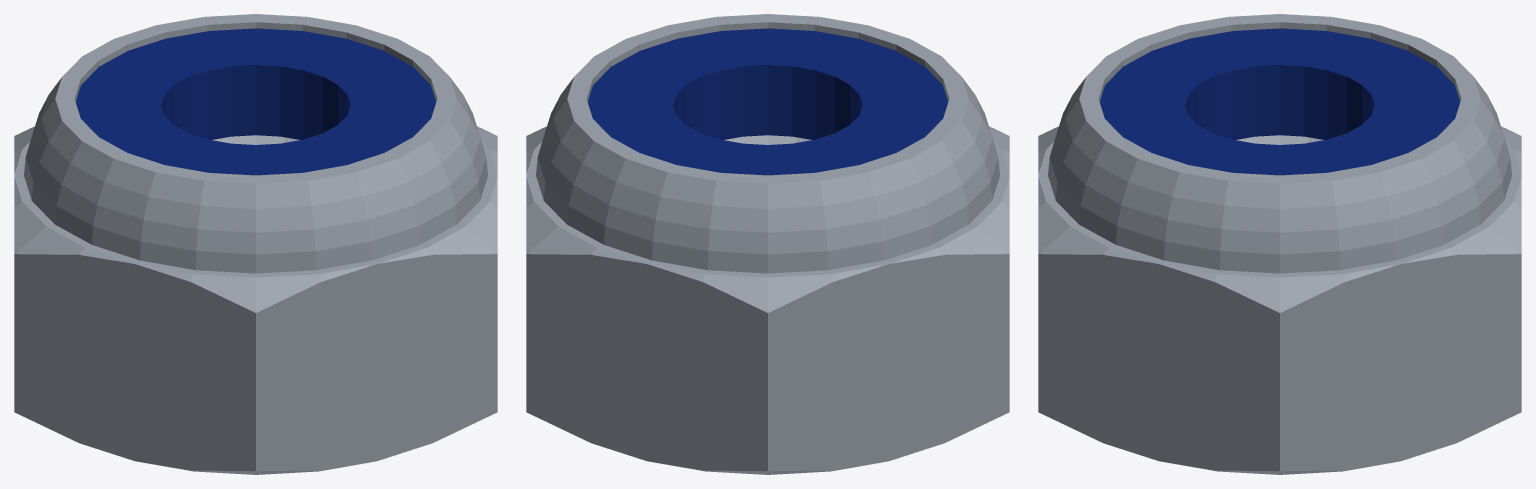
File: model_display.glb
3 views of the same model, side by side, from view 1: azimuth 30°, elevation 25°; view 2: azimuth 150°, elevation 25°; view 3: azimuth 270°, elevation 25° (orthographic).
Parts seen in each view (by area): view 1: steel, nylon_insert; view 2: steel, nylon_insert; view 3: steel, nylon_insert.
Boxes of the visible parts, x1,y1,x2,y2 form: steel: [14, 14, 497, 474]; nylon_insert: [75, 28, 436, 175]; steel: [526, 14, 1009, 474]; nylon_insert: [587, 28, 948, 175]; steel: [1038, 14, 1521, 474]; nylon_insert: [1099, 28, 1460, 175].
Size of the model in its own units: 0.00462 by 0.0025 by 0.004.
